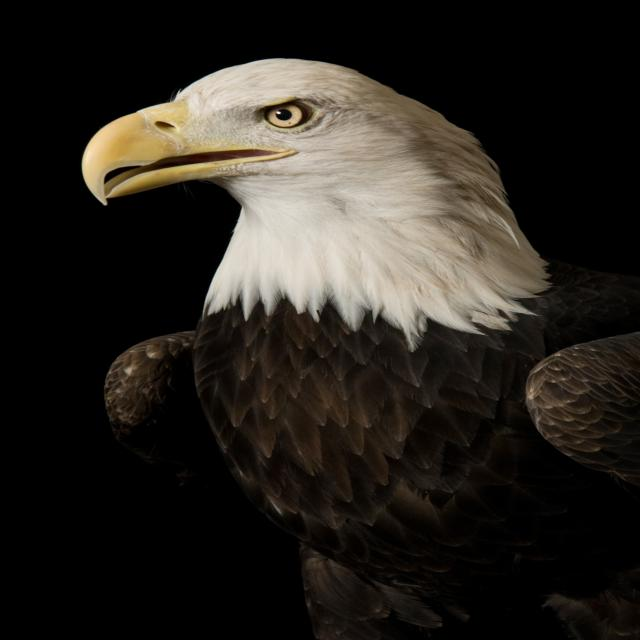Eagle: (67, 51, 640, 640)
